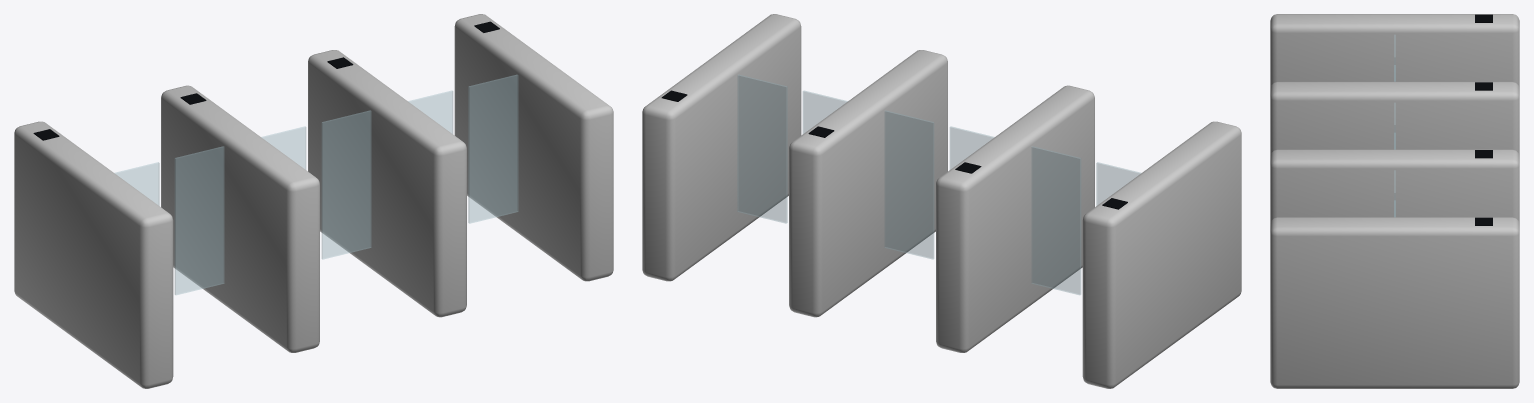
File: office.entrance.speed_gate_3.glb
3 views of the same model, side by side, from view 1: azimuth 30°, elevation 25°; view 2: azimuth 150°, elevation 25°; view 3: azimuth 270°, elevation 25° (orthographic). The views are drawn at different scales.
Parts seen in each view (by area): view 1: main__steel_stainless, main__glass, main__screen; view 2: main__steel_stainless, main__glass, main__screen; view 3: main__steel_stainless, main__screen, main__glass.
Boxes of the visible parts, x1=… form: main__steel_stainless: x1=14, y1=14, x2=613, y2=388; main__glass: x1=115, y1=75, x2=518, y2=294; main__screen: x1=33, y1=21, x2=499, y2=140; main__steel_stainless: x1=642, y1=14, x2=1241, y2=388; main__glass: x1=737, y1=75, x2=1140, y2=294; main__screen: x1=661, y1=90, x2=1127, y2=209; main__steel_stainless: x1=1270, y1=14, x2=1519, y2=388; main__screen: x1=1475, y1=14, x2=1492, y2=225; main__glass: x1=1394, y1=35, x2=1395, y2=217.
Bounding box in the file's own units: 2.9 × 1.01 × 1.4.
